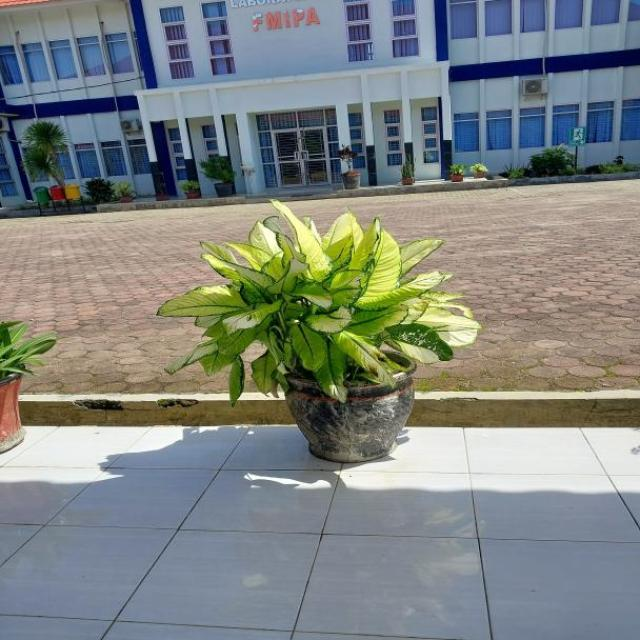plant ahead at: (169, 206, 462, 468)
